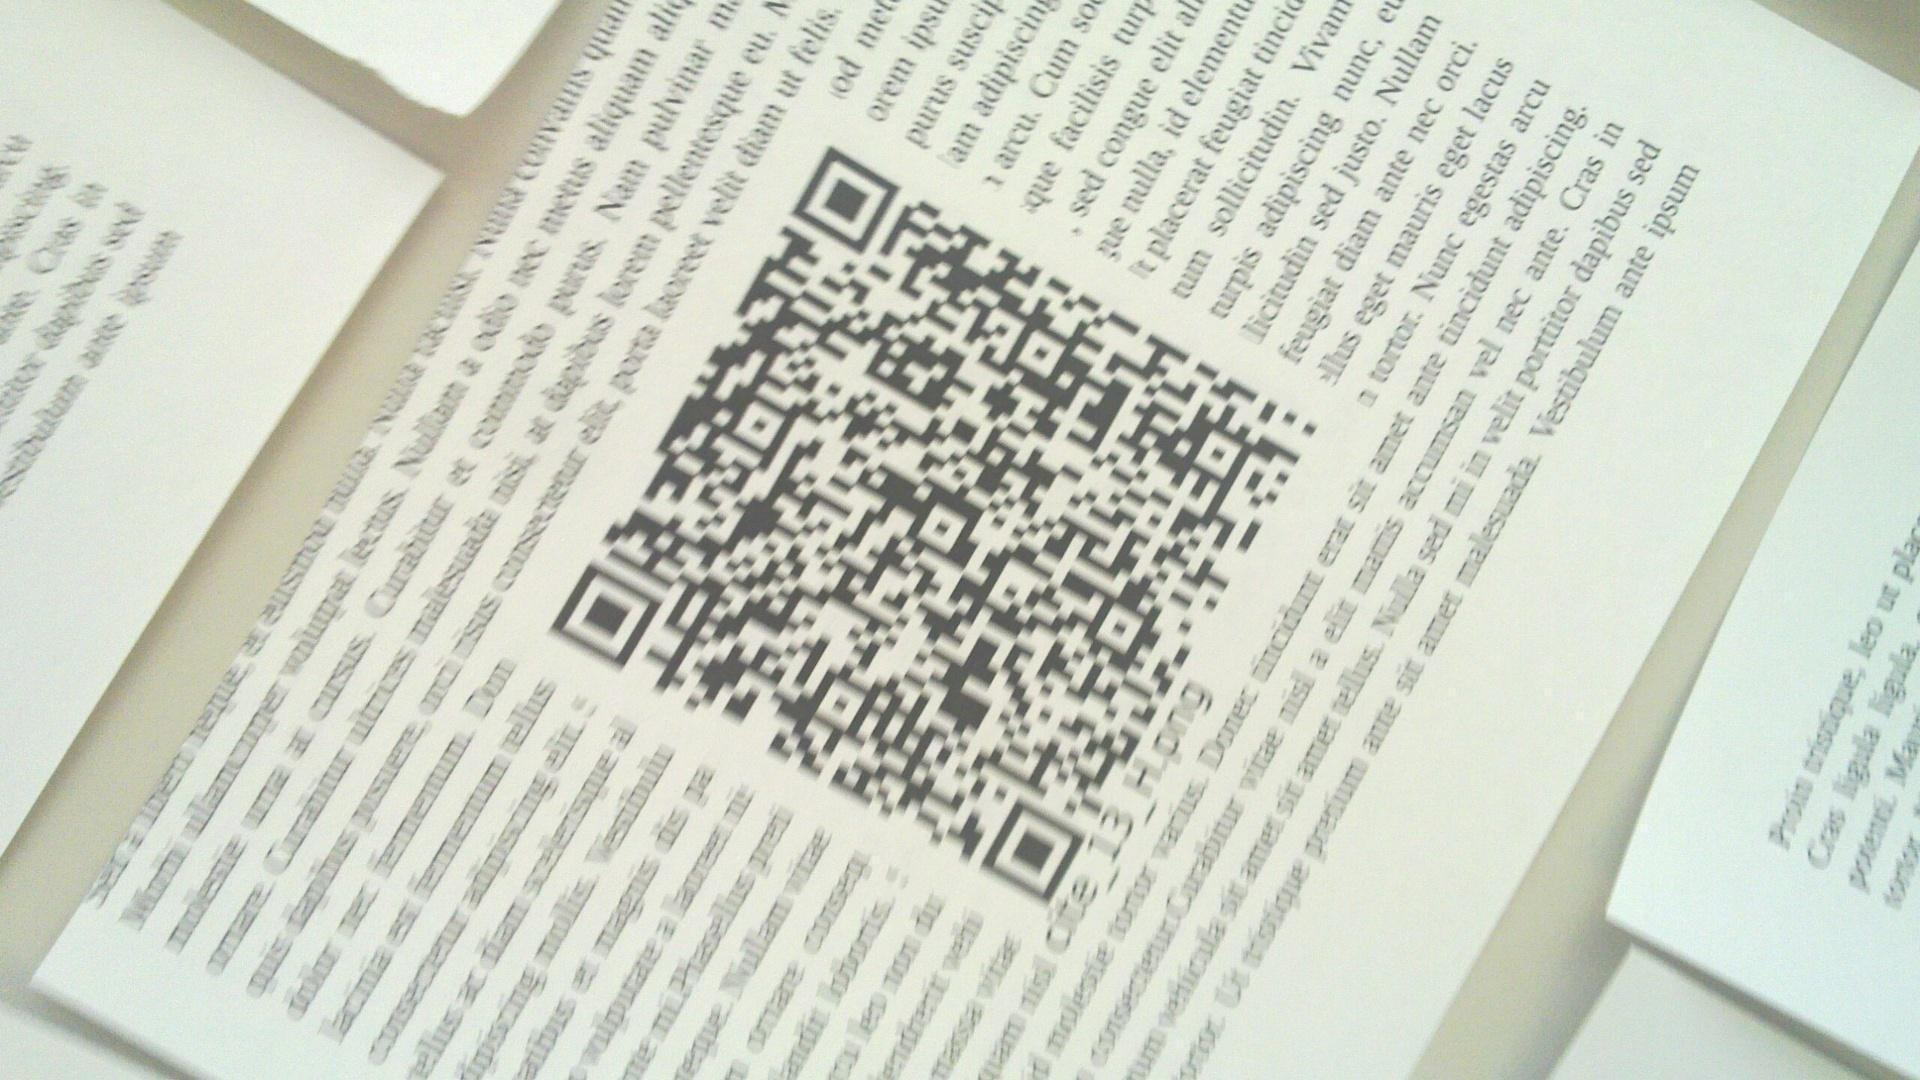qr_code: (549, 146, 1320, 902)
